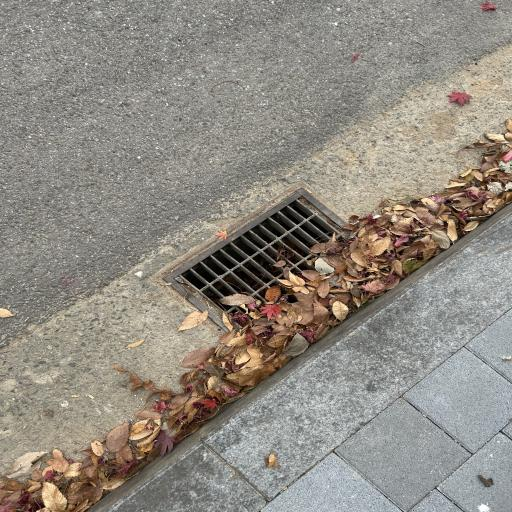debris: (221, 228, 402, 367), (208, 299, 232, 320), (299, 197, 319, 212), (321, 214, 331, 224)
drain: (177, 193, 406, 369)
